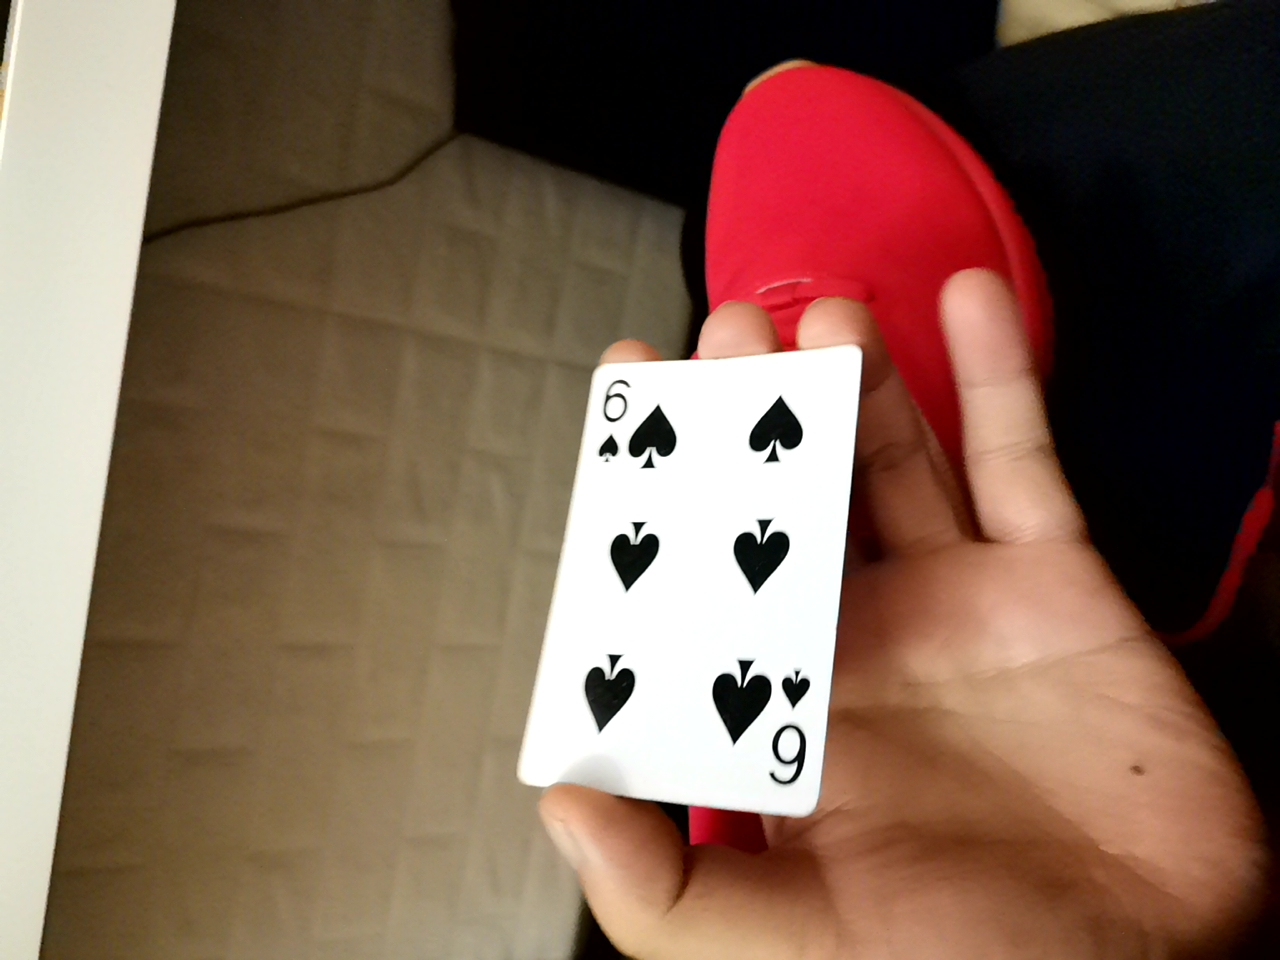ht 6: (524, 330, 860, 831)
